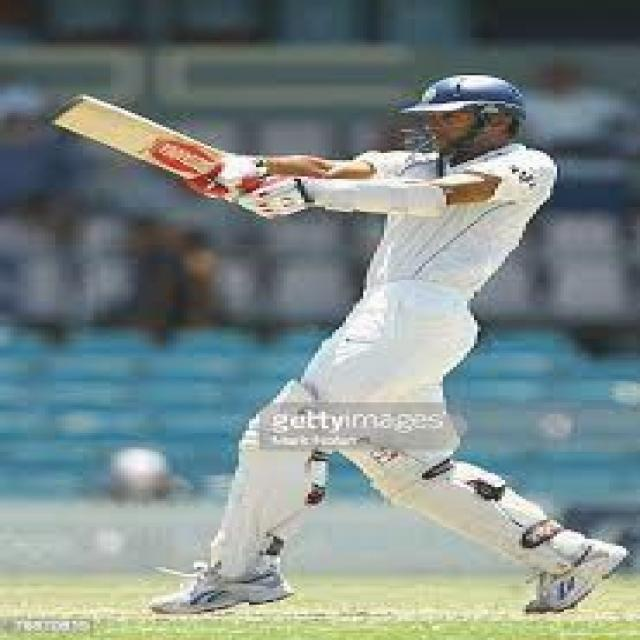toe: (34, 89, 96, 132)
